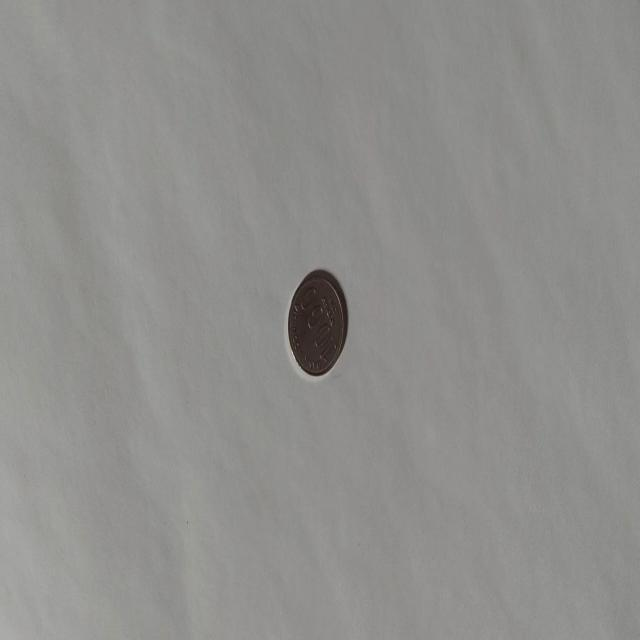seribu rupiah koin: (285, 268, 347, 378)
